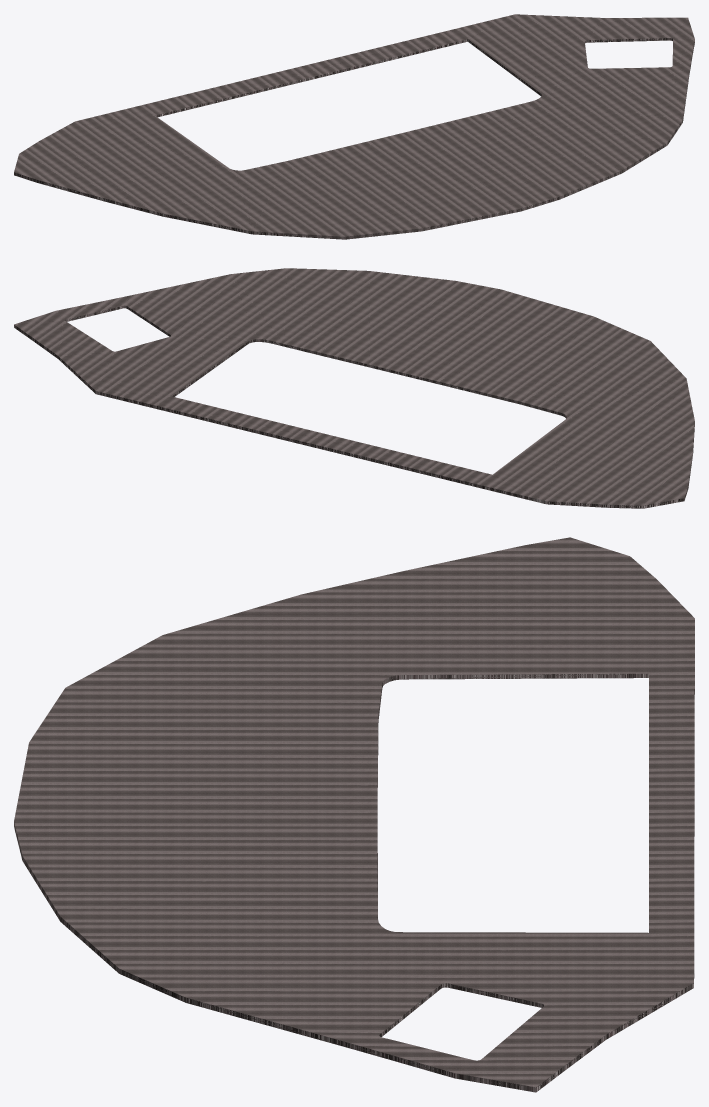
The model's file is 2ndFloorAuditorium.fbx.
3 renders of one model, top to bottom at view 1: azimuth 30°, elevation 25°; view 2: azimuth 150°, elevation 25°; view 3: azimuth 270°, elevation 25°, orthographic. The views are drawn at different scales.
Visible parts, largest first — view 1: sceondFloor; view 2: sceondFloor; view 3: sceondFloor.
Part boxes in pixels (x1,y1,x2,y2): sceondFloor: (14,14,694,239); sceondFloor: (14,268,694,508); sceondFloor: (14,537,694,1092).
Size of the model in its own units: 2106 by 9.43 by 1102.
